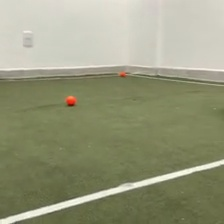ball: (64, 94, 76, 106), (119, 68, 126, 77)
